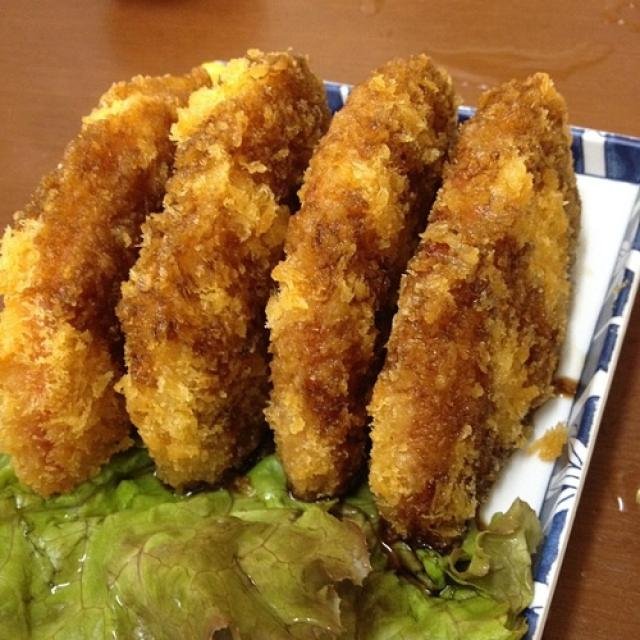炸货点心: (1, 23, 635, 629)
